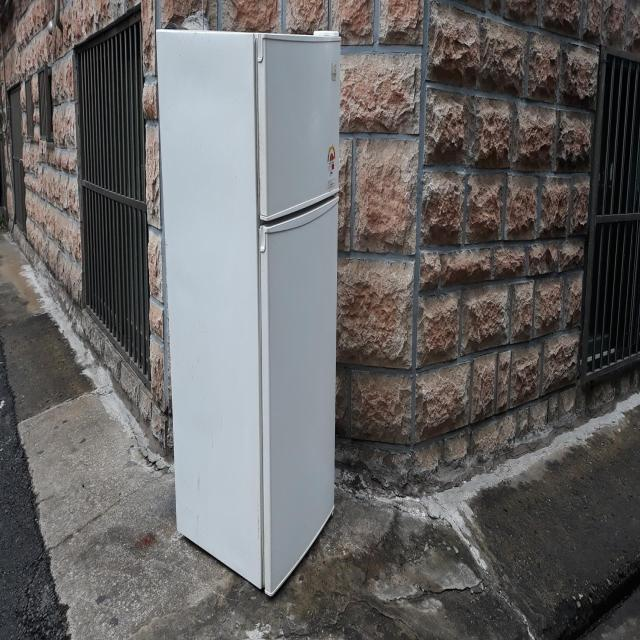refrigerator: (154, 28, 341, 598)
